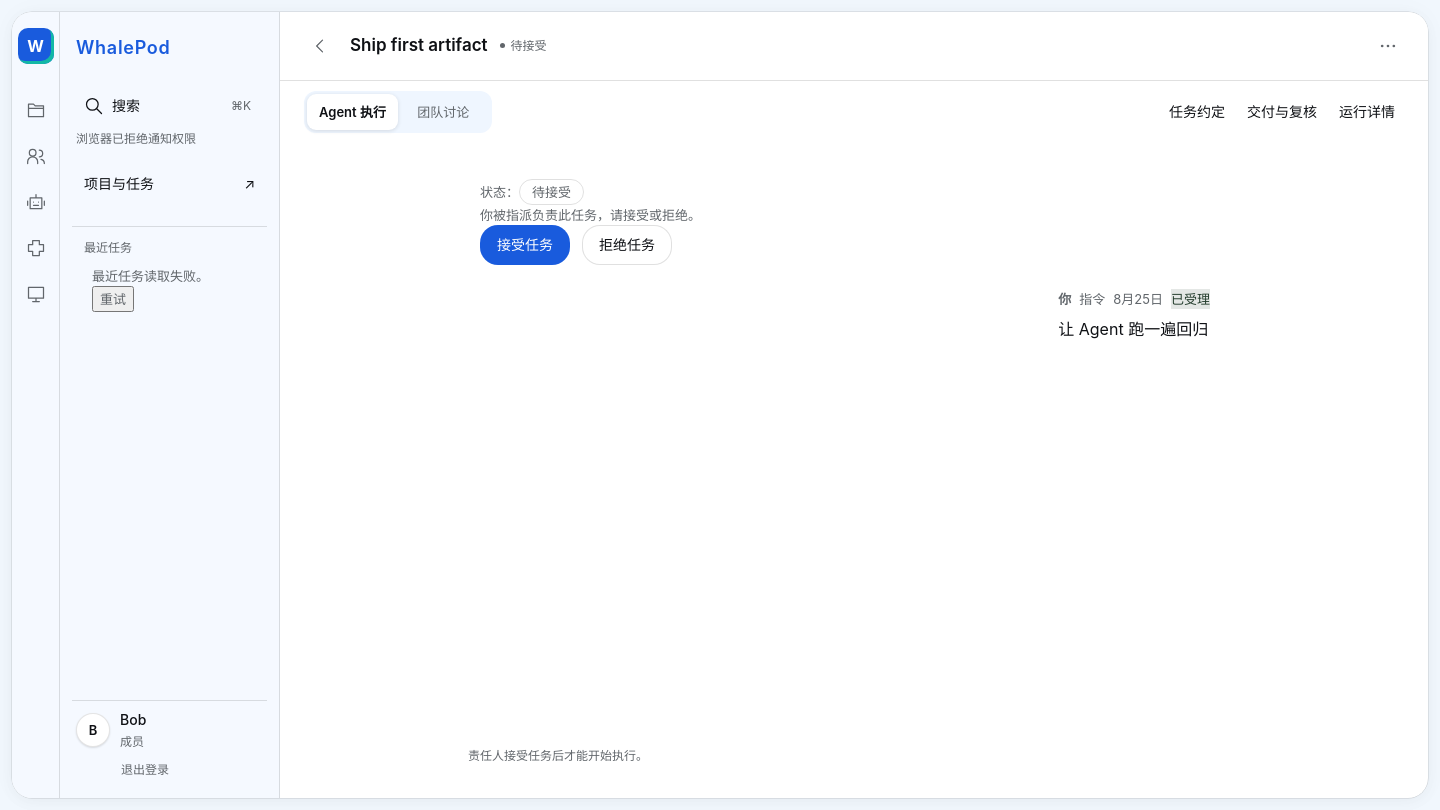
Test case: 执行活动提示（#231 / ADR-0010 决策 6） › 执行区新增活动后讨论栏出现提示；点击消失并聚焦执行栏；首屏不算新活动
This screenshot has width=1440, height=810.
Expected: the heading "Ship first artifact" is shown, [350,34,488,58]
Click the button "团队讨论".
click(443, 112)  # box [398,94,489,130]
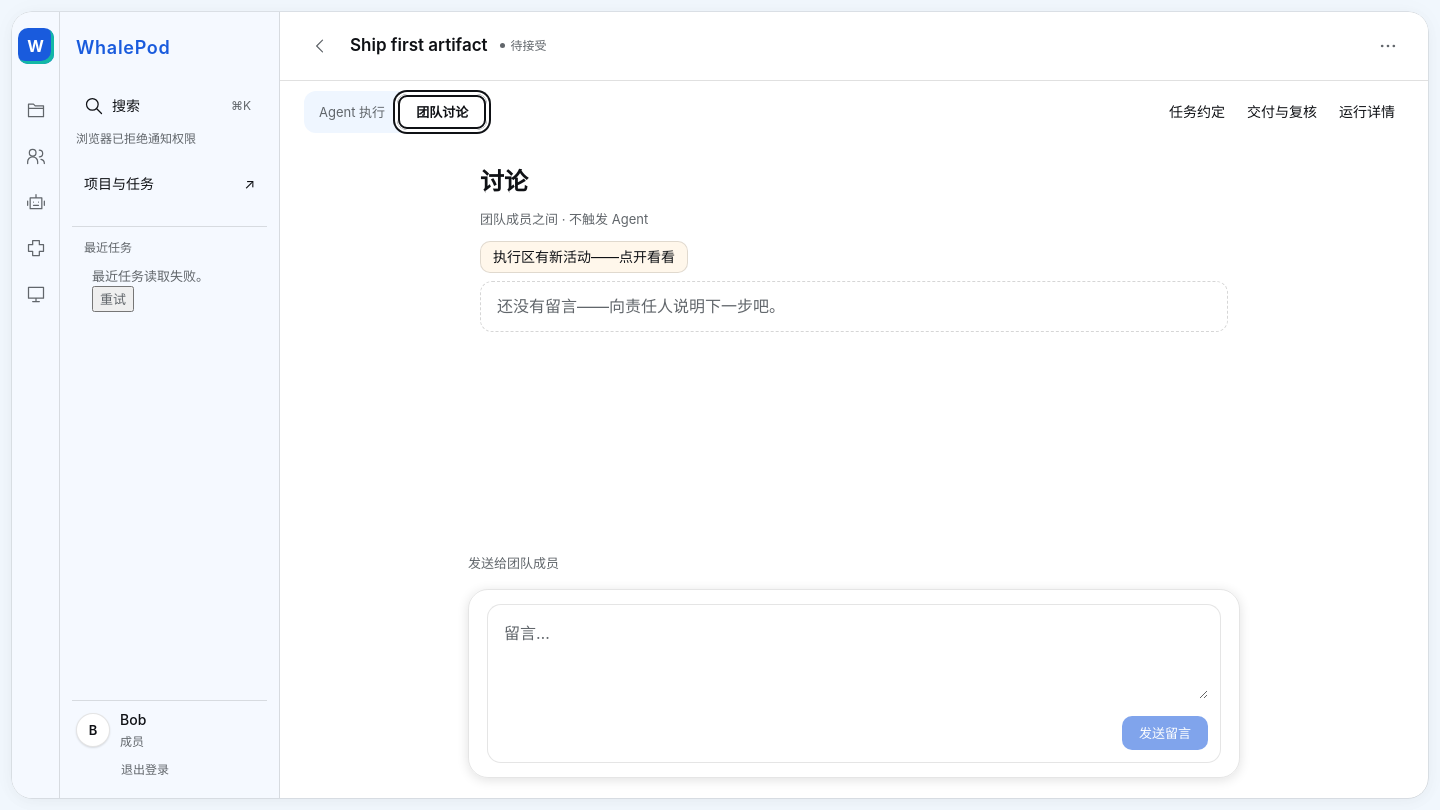
Expected: the button with test id "execution-activity-hint" shows "执行区有新活动"
Click the button with test id "execution-activity-hint".
click(584, 257)  # box [480,241,688,273]
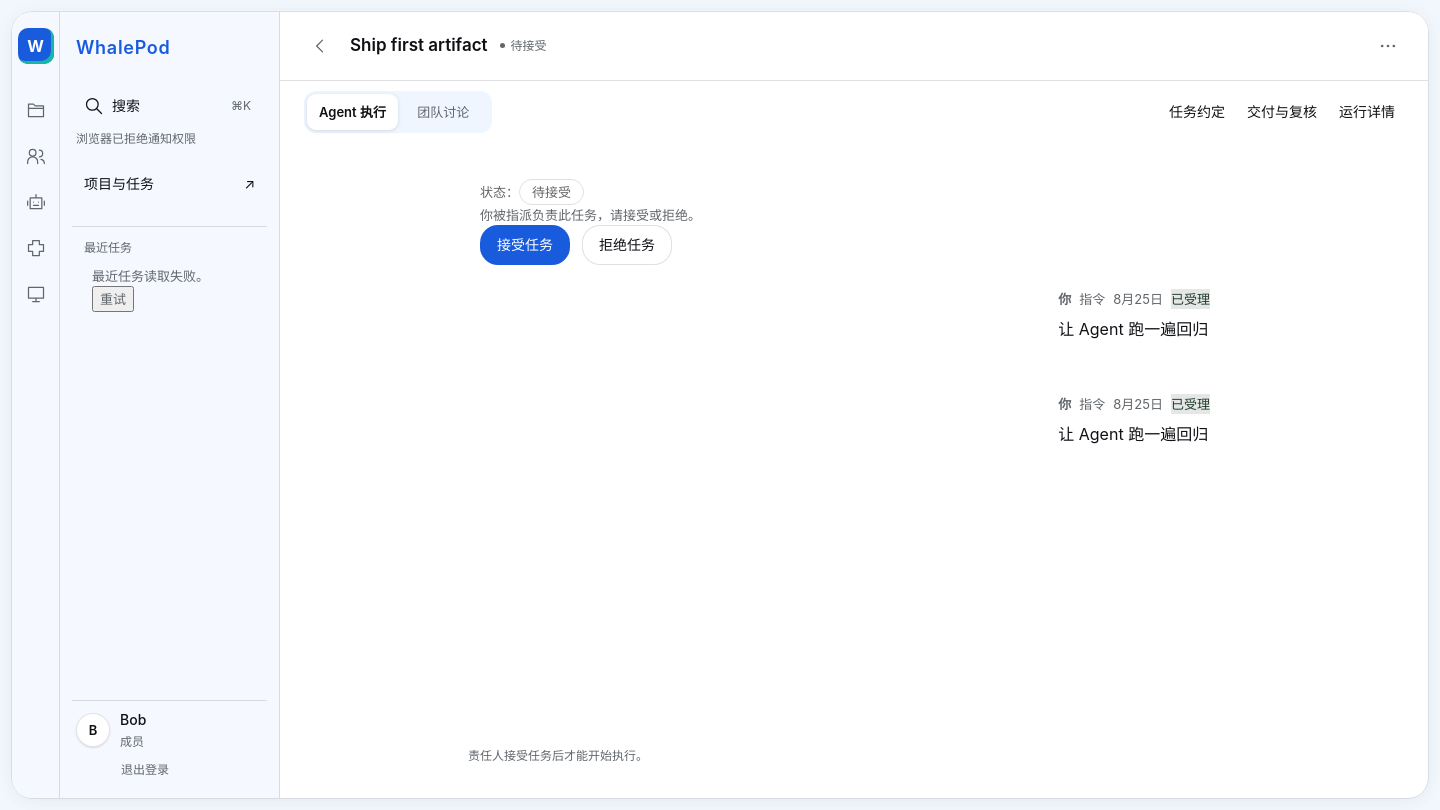
Expected: the button with test id "execution-activity-hint" is gone
